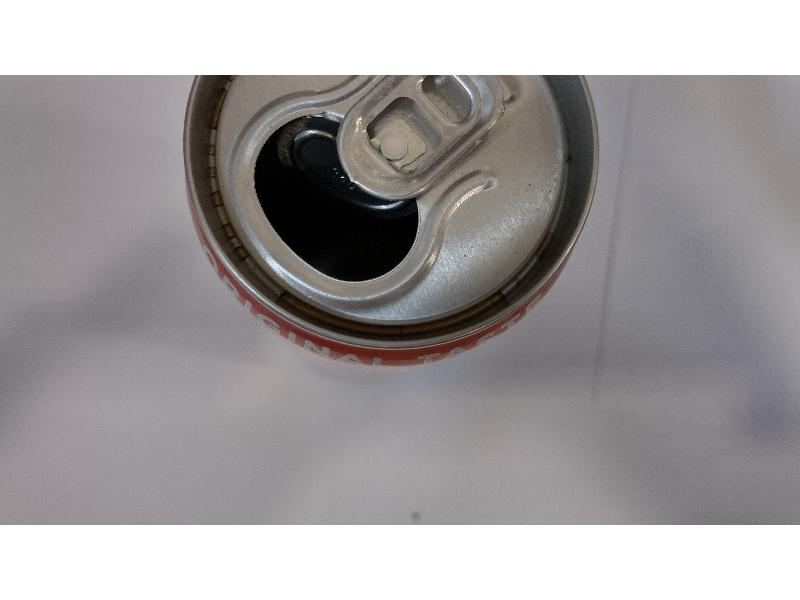can: (172, 71, 606, 378)
